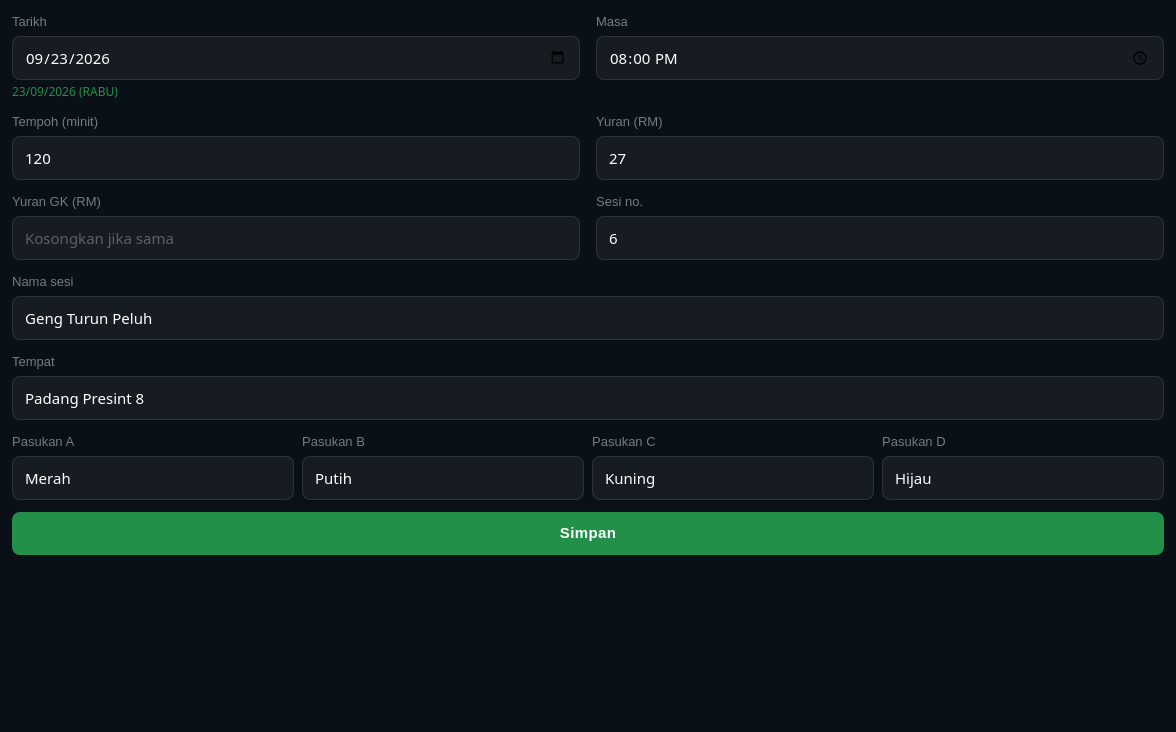
Test: SessionForm › refuses a negative goalkeeper fee
Type "-5" into the number field labelled "Yuran GK (RM)".
click(296, 238); type("-5")  # box [12,216,580,260]
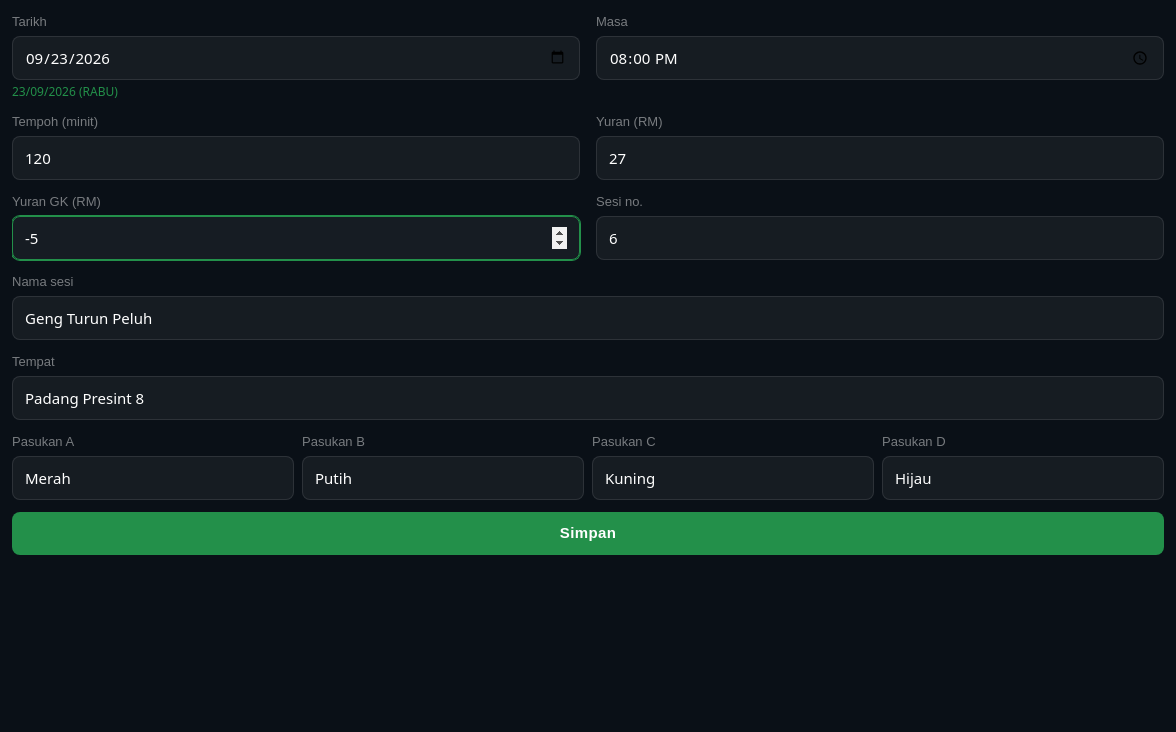
Click the button "Simpan".
click(588, 533)  # box [12,512,1164,554]
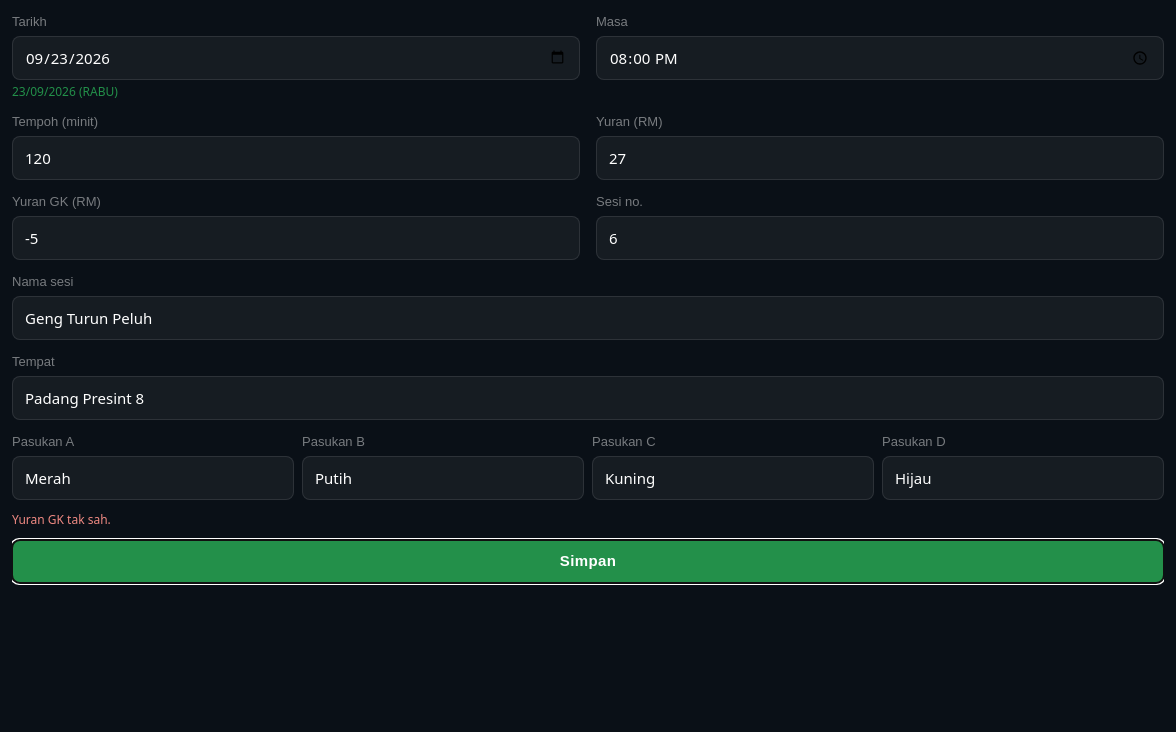
expect the text "Yuran GK tak sah." is shown: met, box [12,511,111,528]
